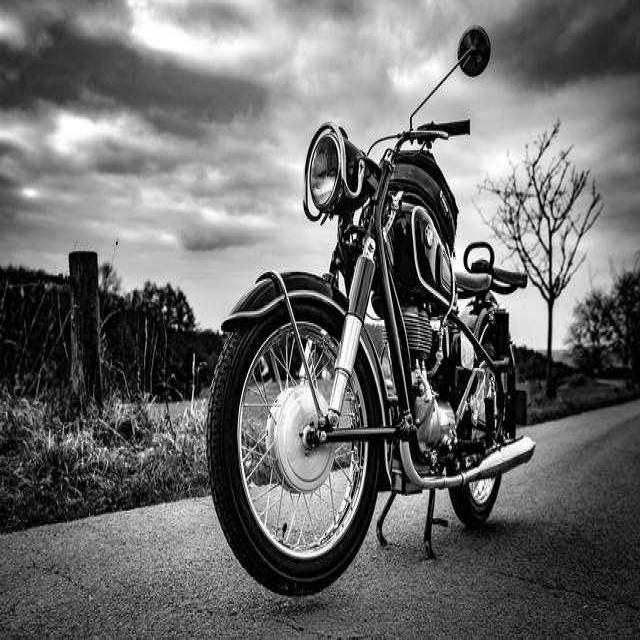Motorcycle: (207, 122, 534, 594)
